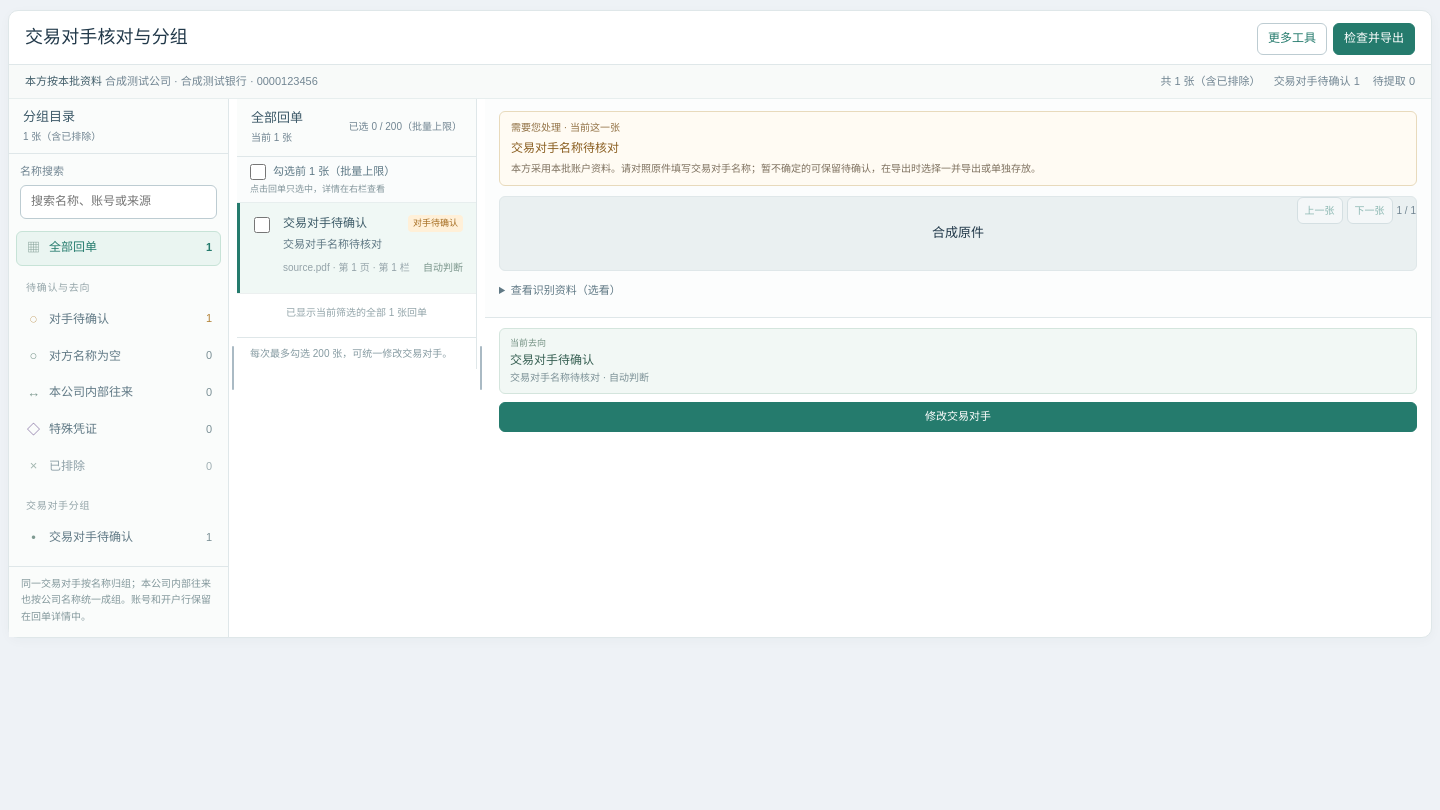
Test: 本方采用批次资料后的交易对手核对 › 通用修改入口在侧别未知时默认对手名称，不要求用户再选择本方
Click the button "修改交易对手" at (958, 417), box [499, 402, 1417, 432]
(page scrolled)
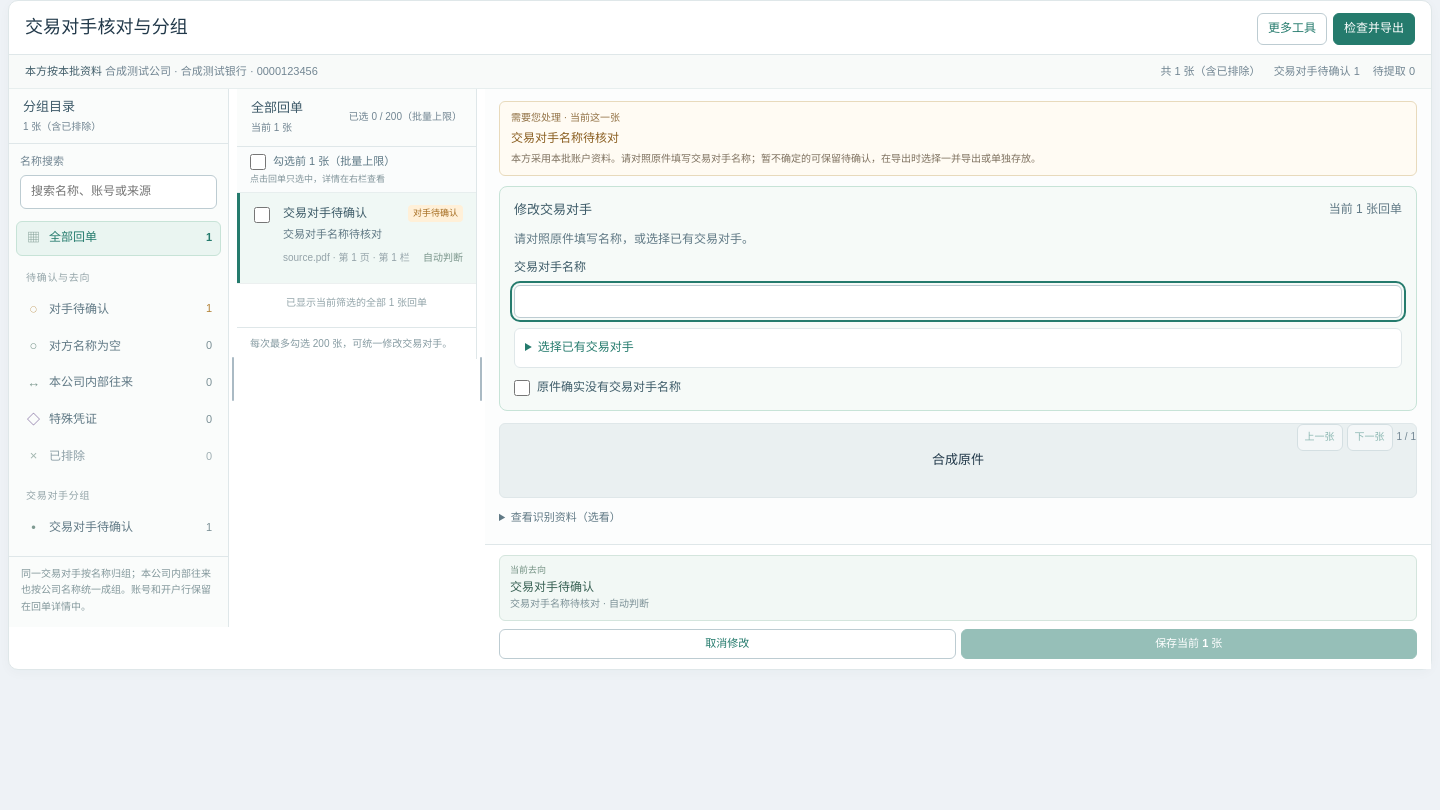
expect the form "修改交易对手" is shown: met, box [499, 186, 1417, 411]
